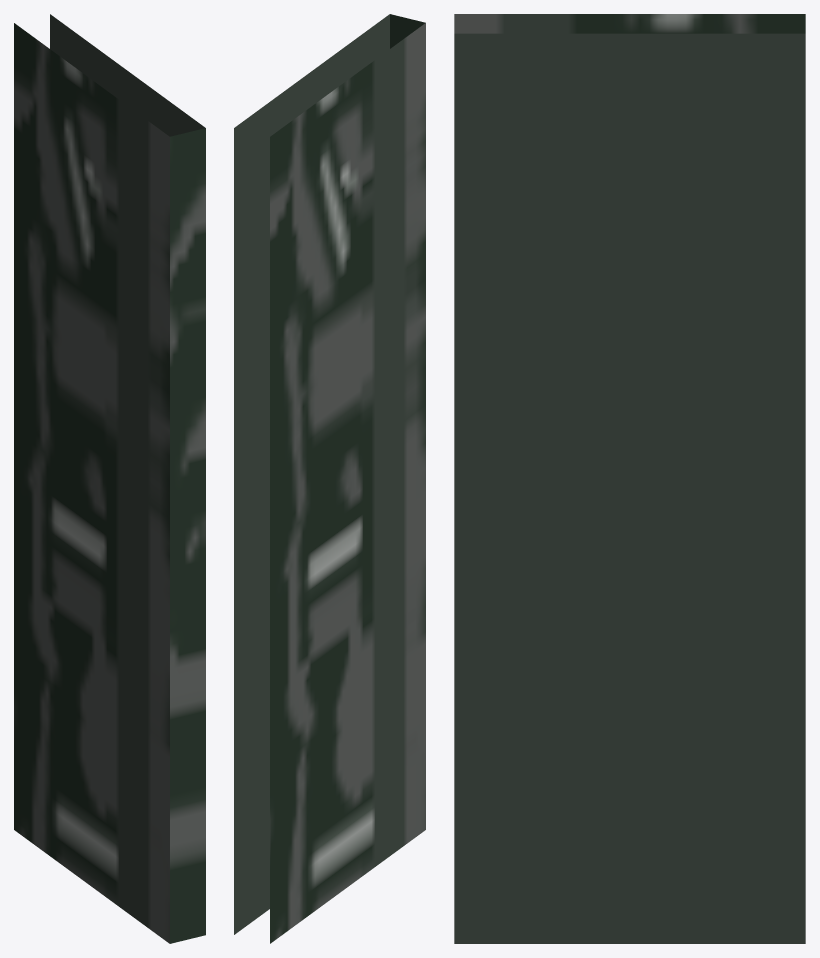
The model's file is section-1.obj.
3 renders of one model, left to right at view 1: azimuth 30°, elevation 25°; view 2: azimuth 150°, elevation 25°; view 3: azimuth 270°, elevation 25°, orthographic. The views are drawn at different scales.
Bounding box in the file's own units: 0.0467 × 1 × 0.3499.
